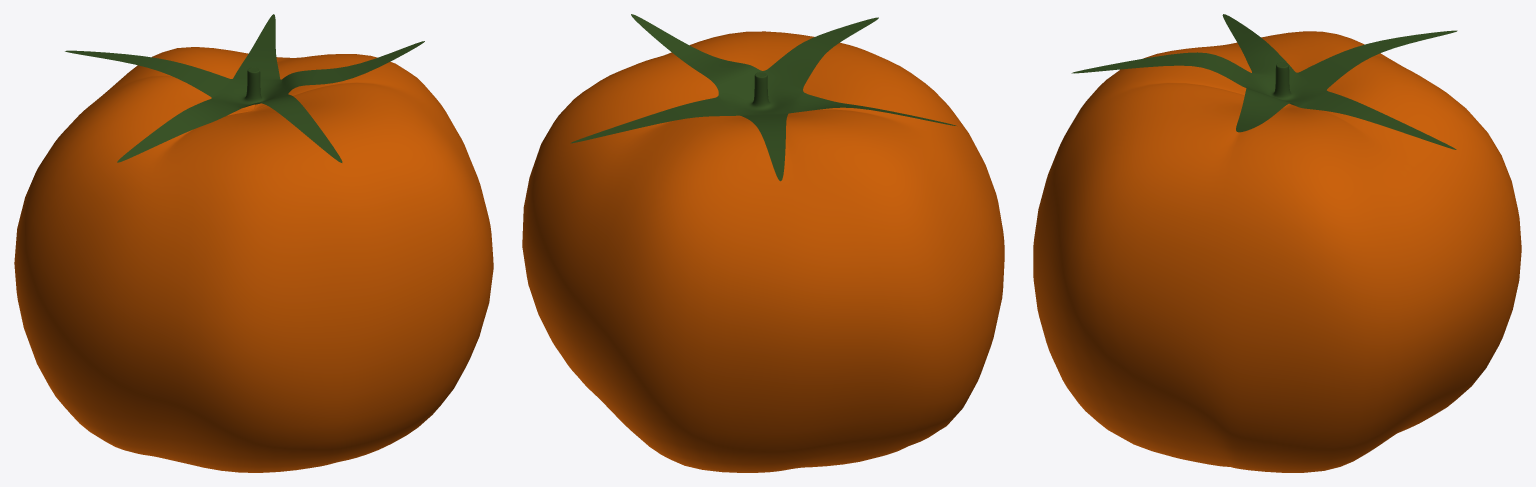
The model's file is tomatooriginal.fbx.
3 views of the same model, side by side, from view 1: azimuth 30°, elevation 25°; view 2: azimuth 150°, elevation 25°; view 3: azimuth 270°, elevation 25° (orthographic). The views are drawn at different scales.
Parts seen in each view (by area): view 1: tomatoShape; view 2: tomatoShape; view 3: tomatoShape.
Boxes of the visible parts, x1,y1,x2,y2 form: tomatoShape: [14, 14, 493, 472]; tomatoShape: [522, 14, 1004, 472]; tomatoShape: [1033, 14, 1521, 472].
Bounding box in the file's own units: 7.6 × 6.09 × 7.49.
